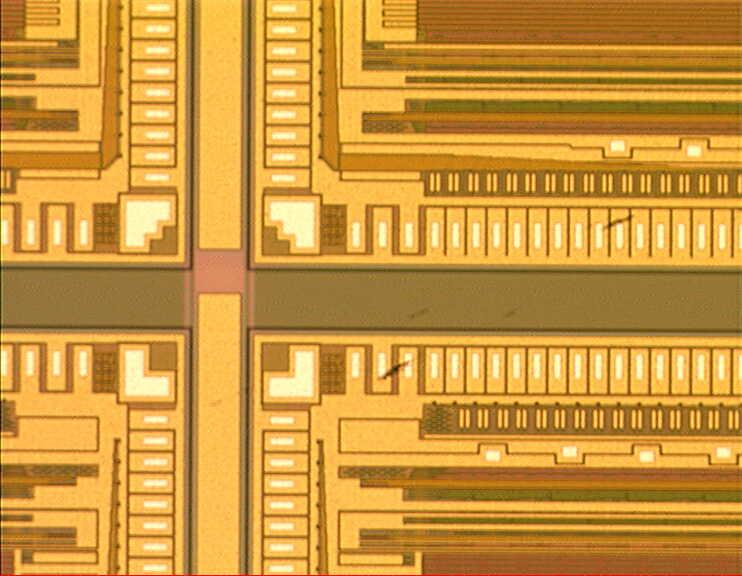SCRATCH: (185, 205, 647, 425)
